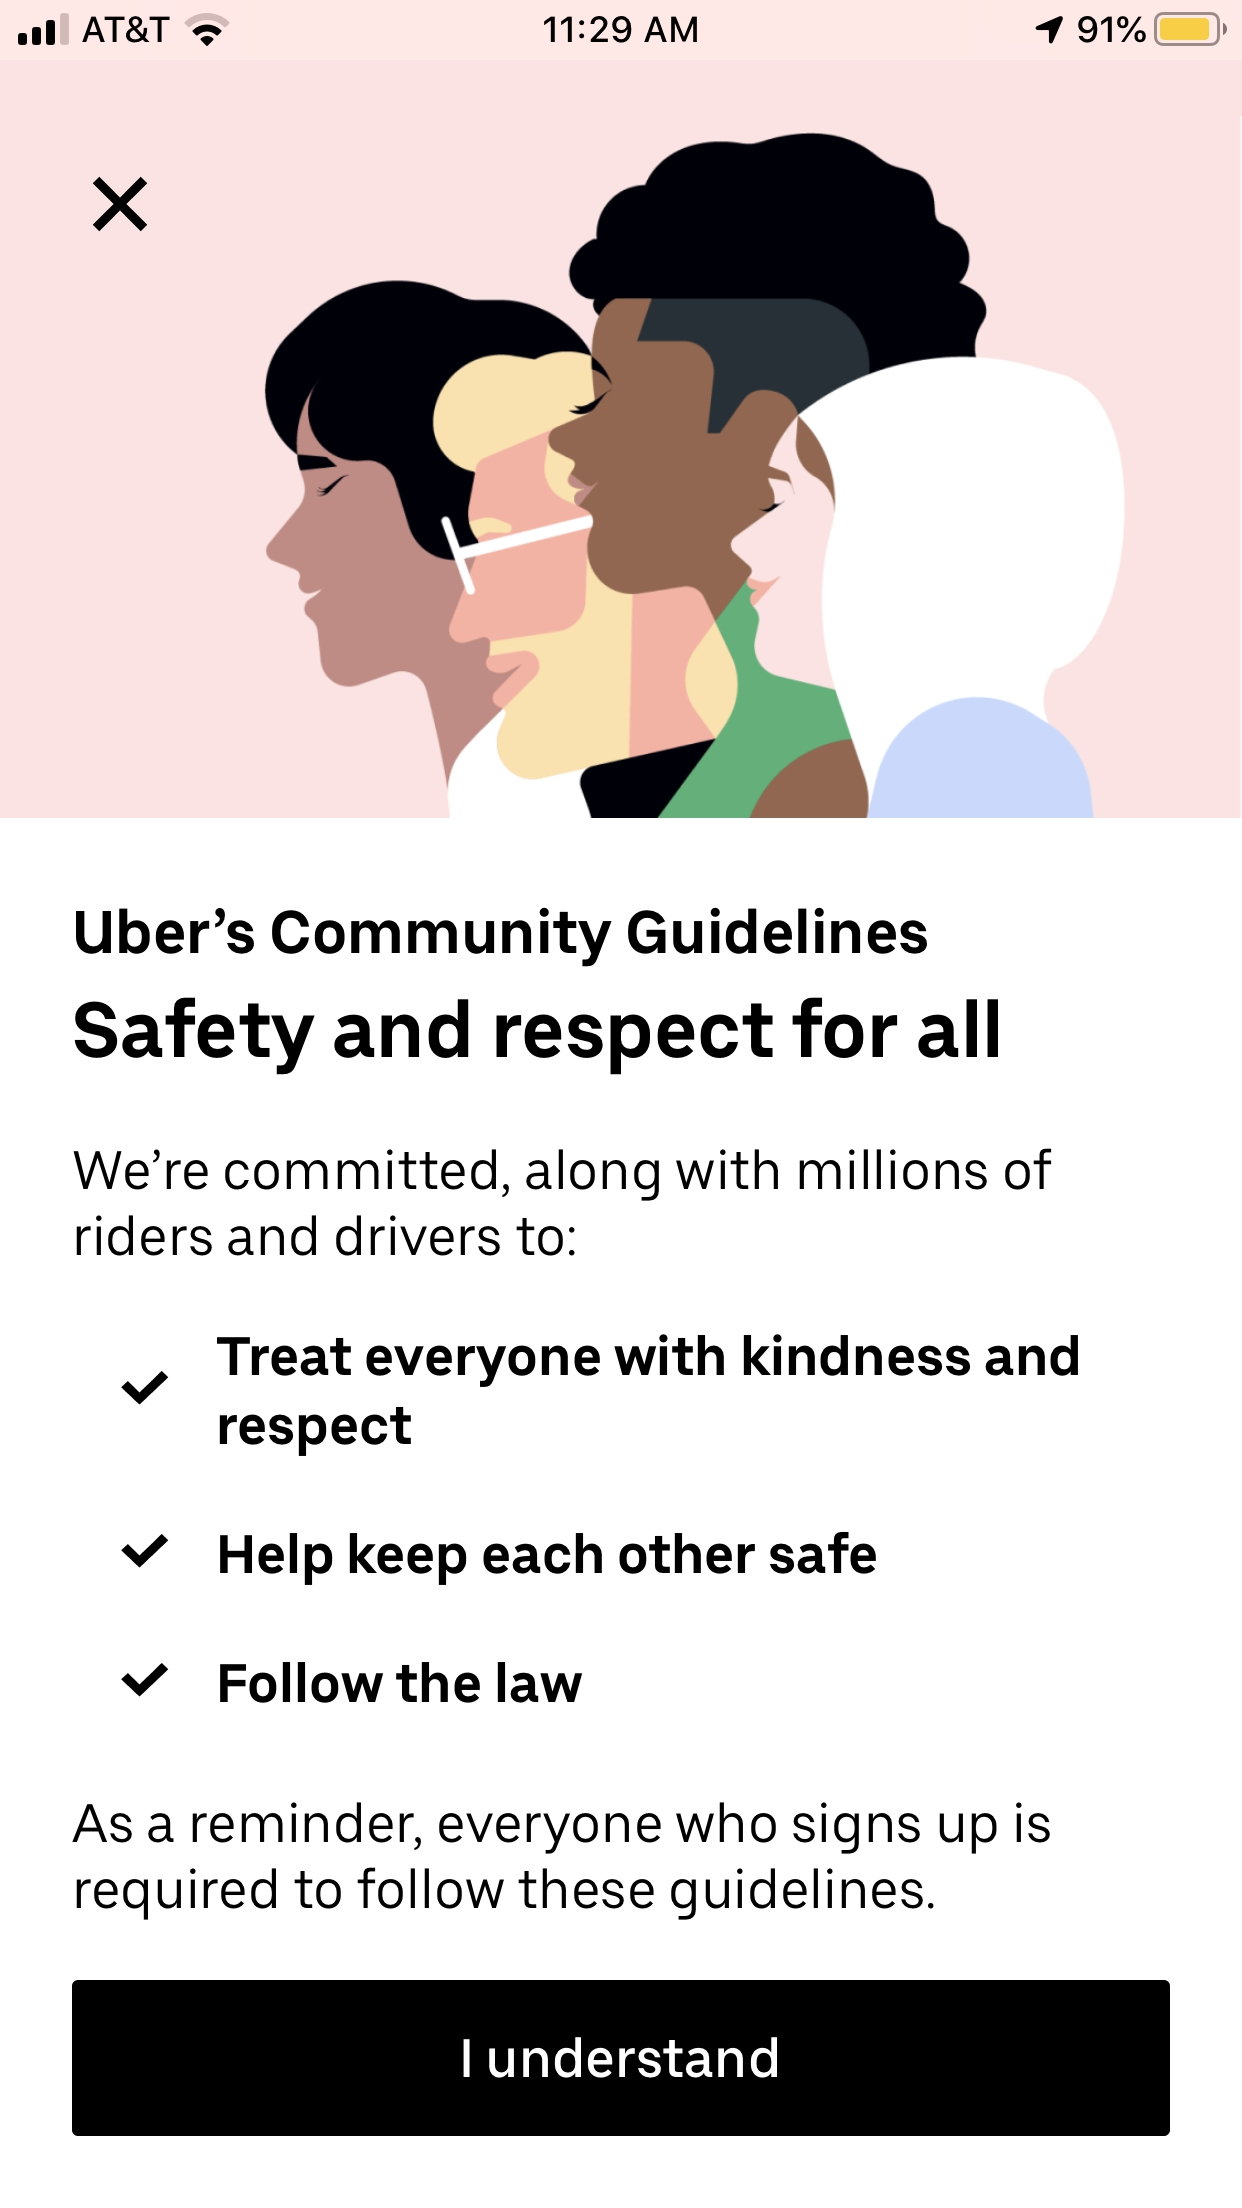Icon: (93, 176, 149, 232), (121, 1371, 168, 1404), (121, 1535, 168, 1568), (121, 1664, 168, 1697)
Image: (2, 2, 1242, 817)
Text: (74, 907, 998, 1075), (73, 1802, 1049, 1920), (74, 1148, 1052, 1256), (217, 1335, 1078, 1456), (220, 1532, 877, 1585), (220, 1662, 582, 1703)
TextButton: (71, 1981, 1171, 2137)
UpperTaskBar: (2, 2, 1242, 47)
